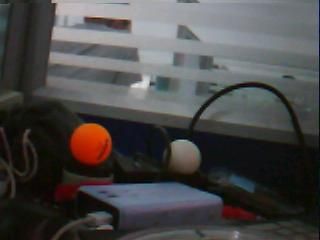oball: (70, 124, 111, 164)
